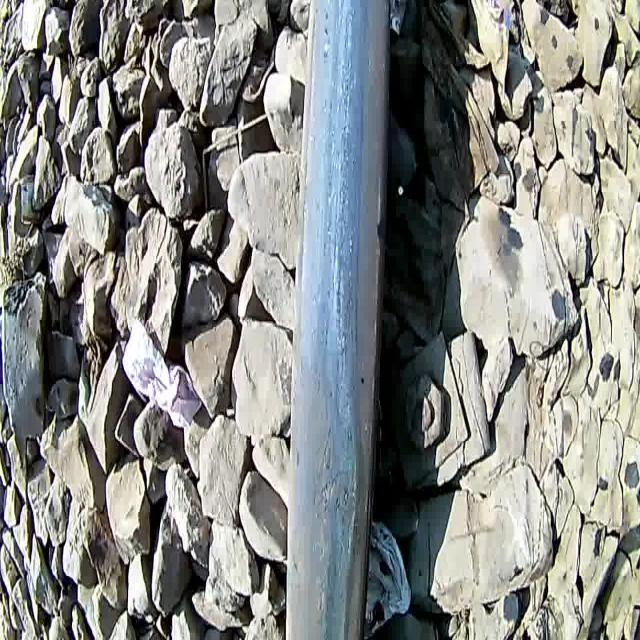Squats: (316, 526, 348, 640)
